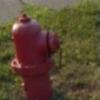a fire hydrant: (4, 13, 70, 100)
